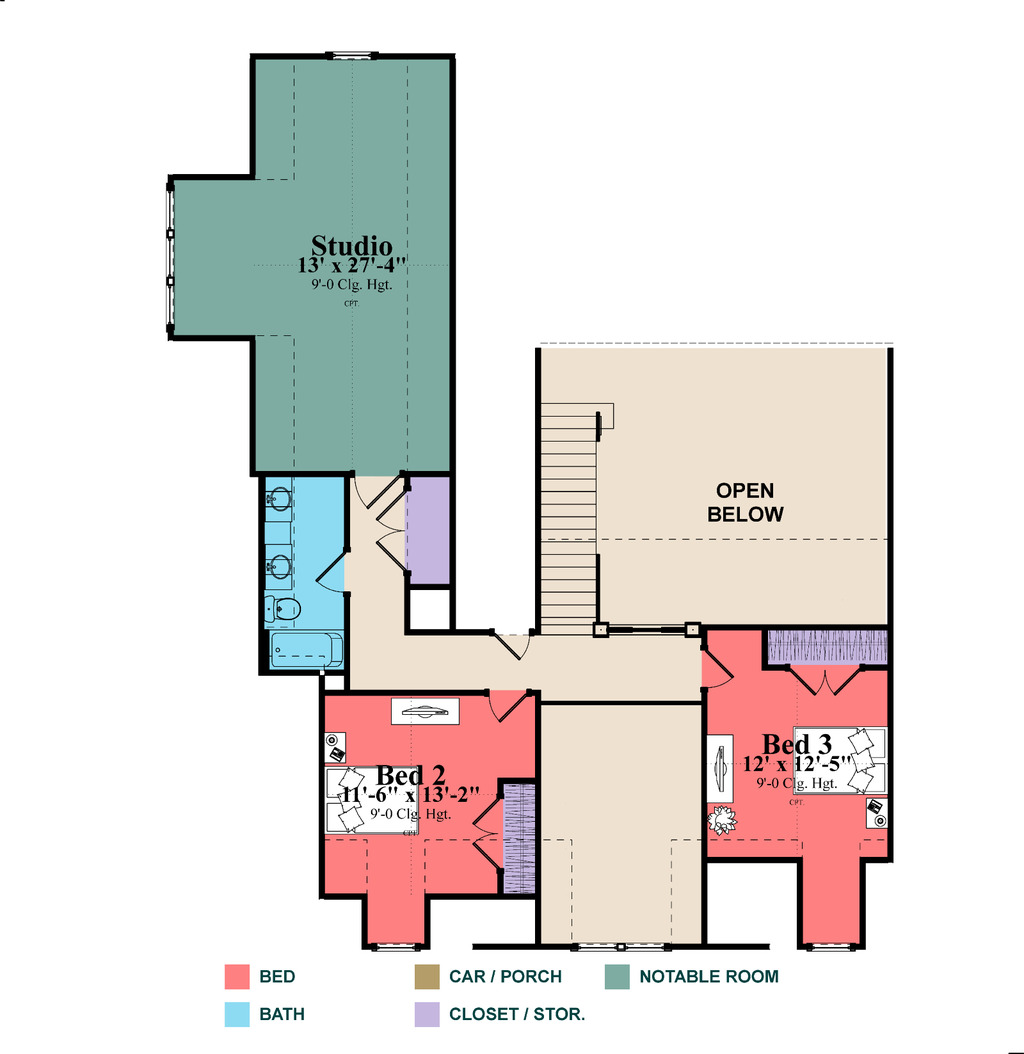bed: (792, 721, 891, 808), (325, 765, 423, 842)
door: (782, 655, 864, 703), (370, 490, 415, 568), (473, 790, 517, 868), (346, 467, 394, 513), (696, 641, 732, 695), (484, 685, 528, 727), (491, 624, 532, 663), (314, 550, 348, 596)
large_sink: (259, 591, 314, 629)
small_sink: (255, 478, 299, 591)
stairs: (532, 400, 622, 641)
tub: (268, 626, 355, 673)
window: (569, 936, 673, 957), (325, 41, 394, 70), (804, 937, 876, 957), (371, 939, 419, 955)
